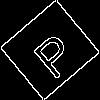P: (25, 24, 80, 81)
